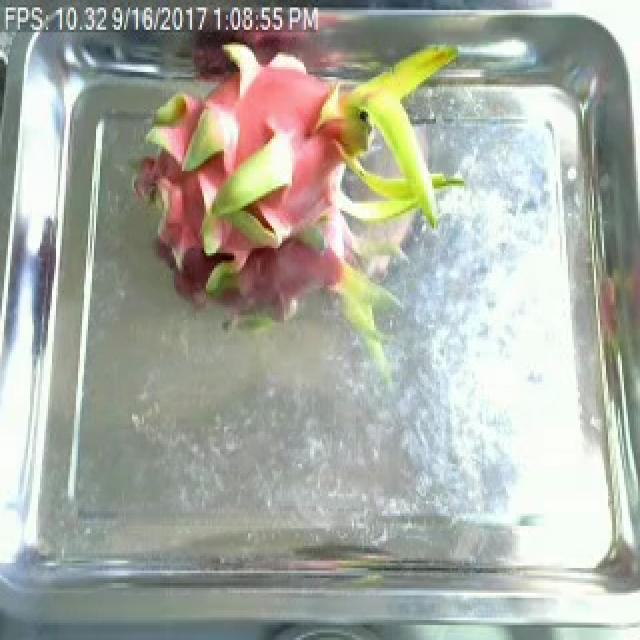fruit: (106, 0, 486, 382)
